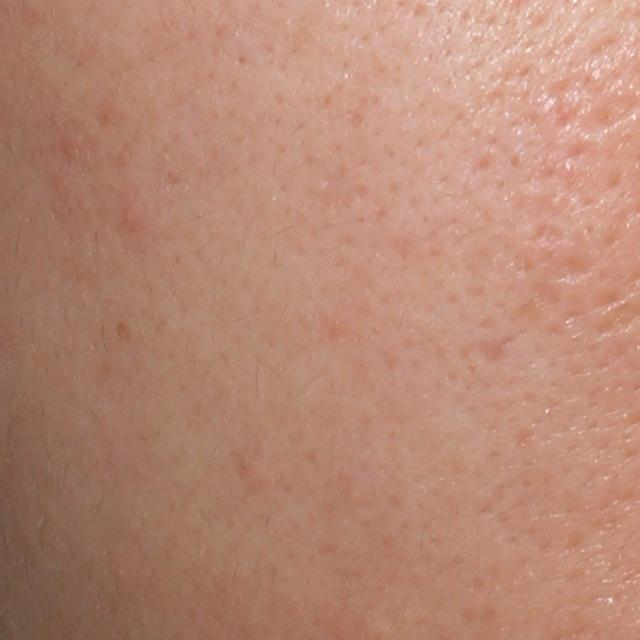atrophic_scar: (534, 248, 595, 306), (314, 163, 368, 210), (541, 74, 580, 129), (468, 336, 512, 370), (528, 218, 569, 246)
